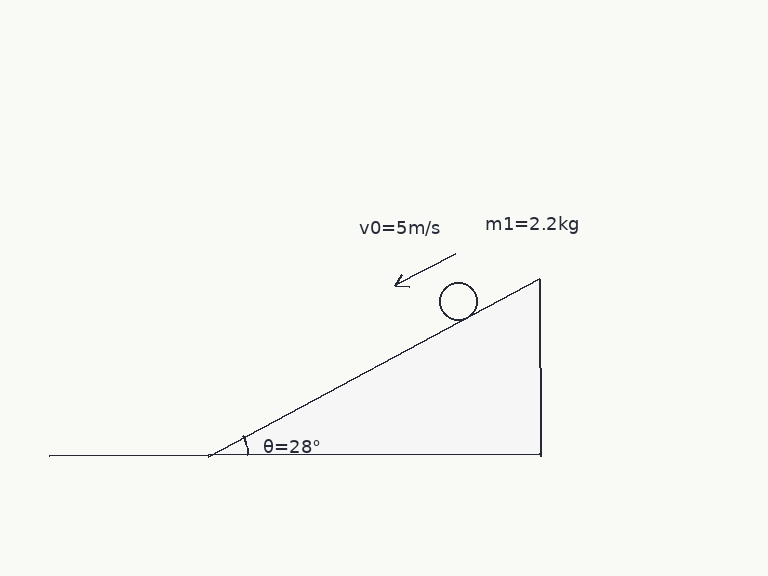ball: (437, 280, 479, 322)
ramp: (206, 277, 541, 457)
